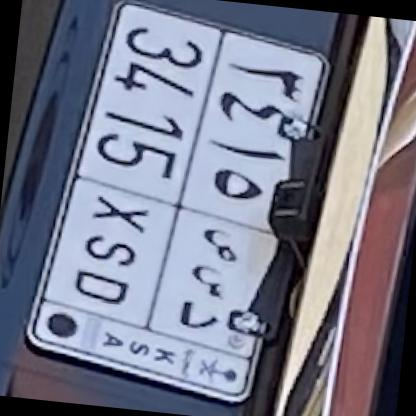english: (41, 0, 206, 331)
